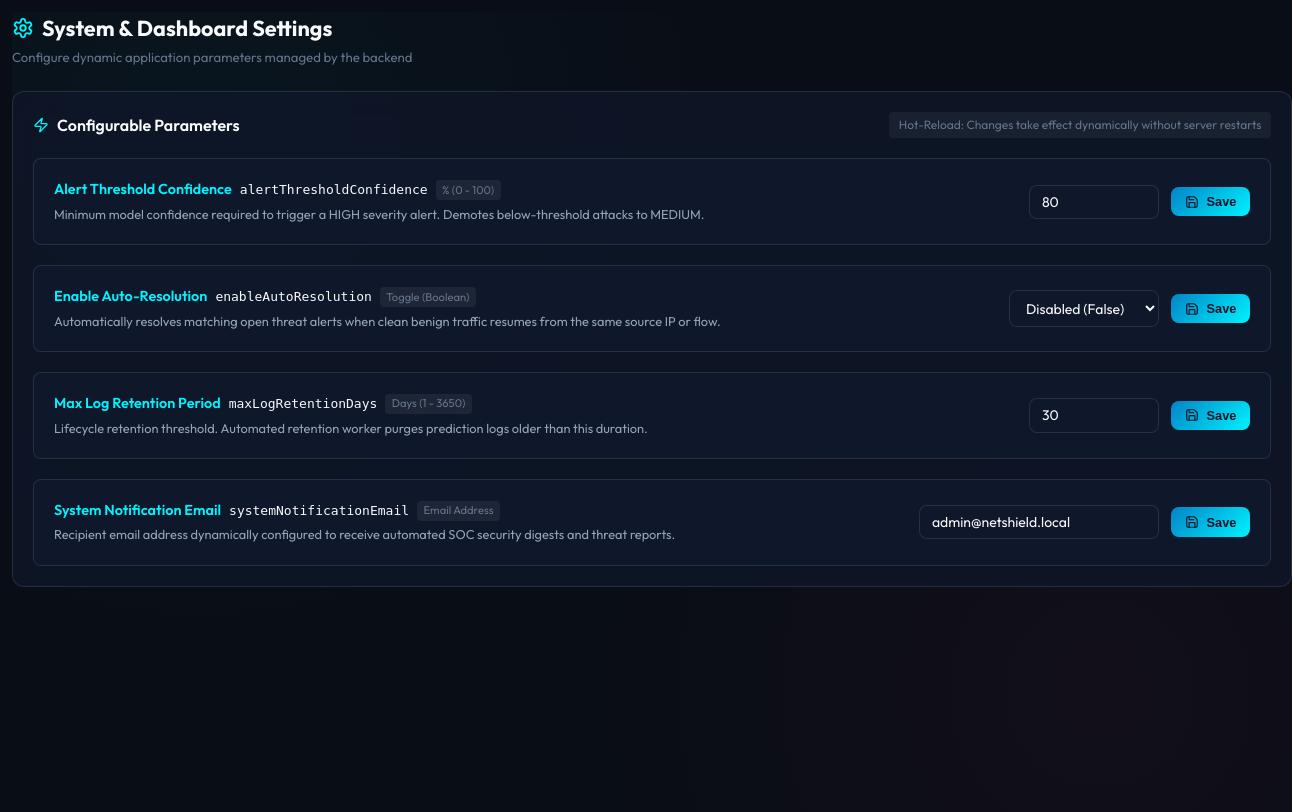
Test: PHASE 20.6: Settings Functionality & Behavioral Integrity UI Suite › displays inline error banner when backend returns a validation failure without browser alert
expect the text "System Notification Email" is shown: met, box [54,500,221,521]
Note: Fourth button corresponds to systemNotificationEmail
Click the button "Save" in the row of "systemNotificationEmail" at (1210, 522), box [1171,508,1250,537]
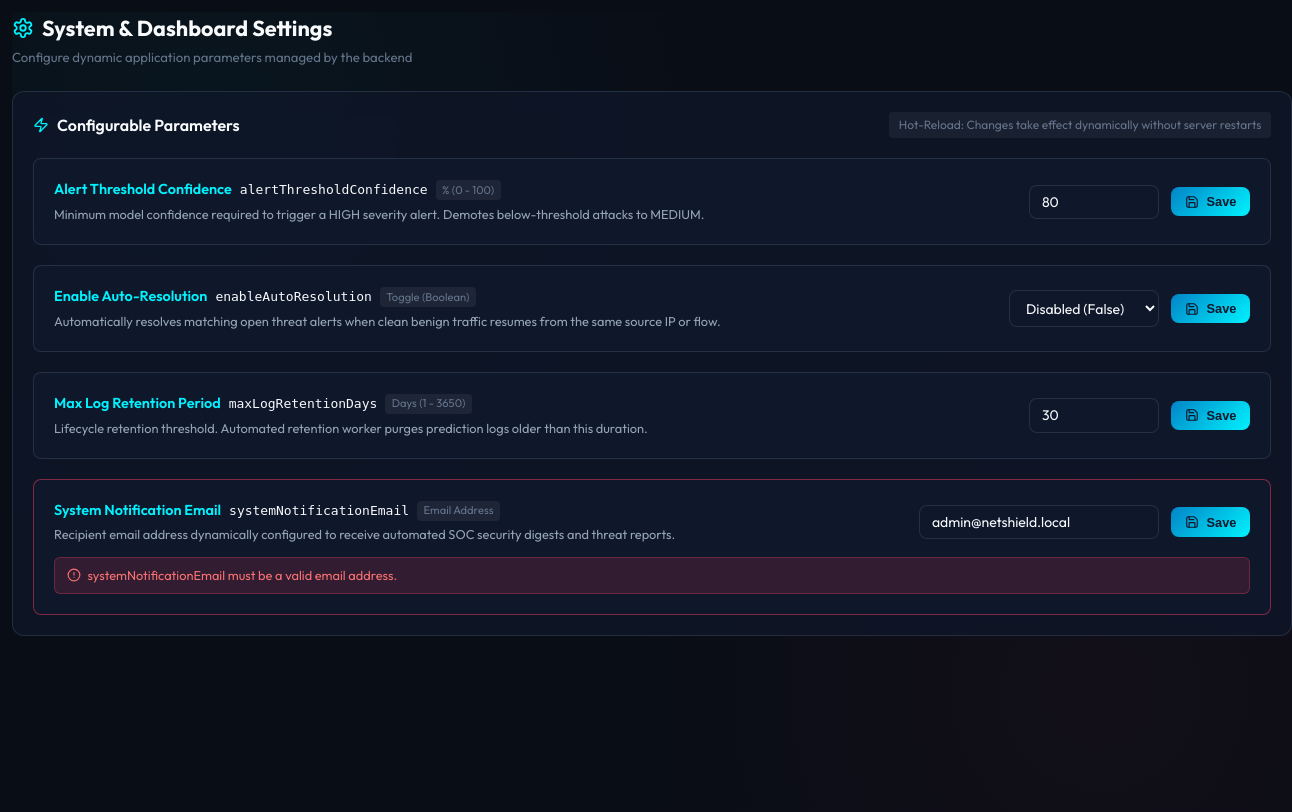
expect the text "systemNotificationEmail must be a valid email address." is shown: met, box [54,557,1250,594]
